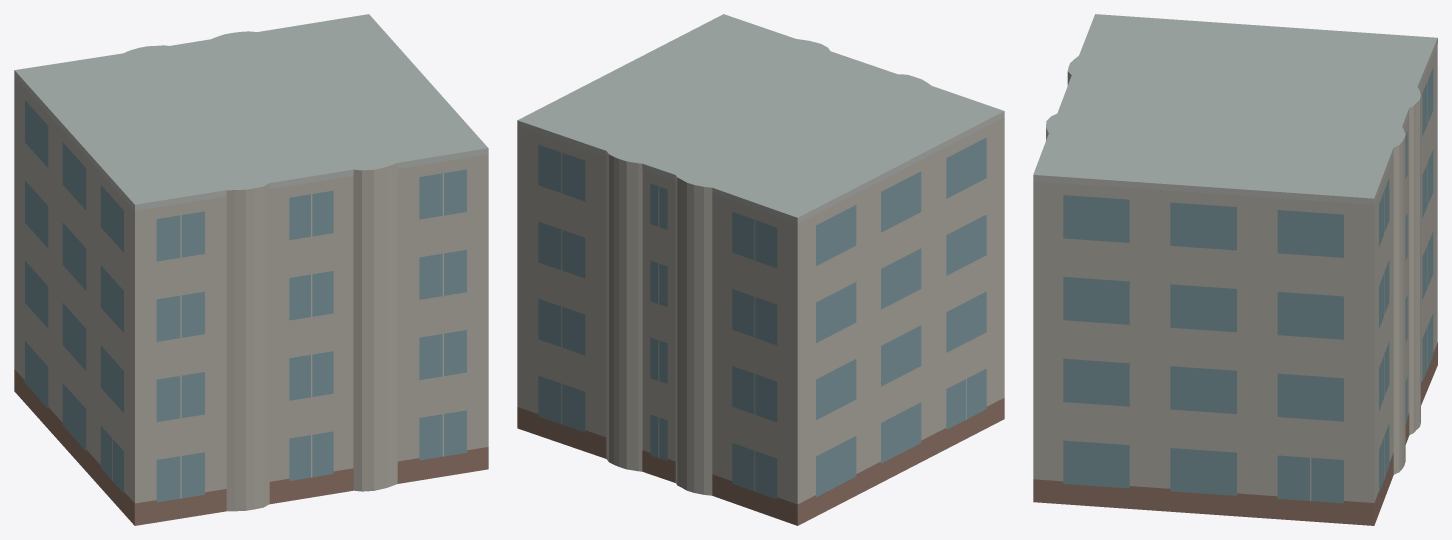
Rendered from survey-upis-32630201.glb.
3 renders of one model, left to right at view 1: azimuth 30°, elevation 25°; view 2: azimuth 150°, elevation 25°; view 3: azimuth 270°, elevation 25°, orthographic. The views are drawn at different scales.
Visible parts, largest first — view 1: survey-upis-32630201.tmp; view 2: survey-upis-32630201.tmp; view 3: survey-upis-32630201.tmp.
Boxes of the visible parts, x1,y1,x2,y2 form: survey-upis-32630201.tmp: (14,14,488,525); survey-upis-32630201.tmp: (517,14,1004,525); survey-upis-32630201.tmp: (1033,14,1437,525).
Bounding box in the file's own units: 15.37 × 12.7 × 14.24.
